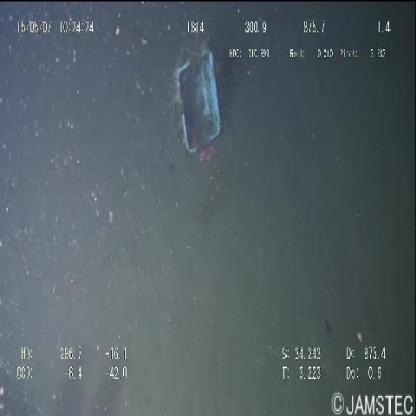Rác: (164, 37, 228, 162)
